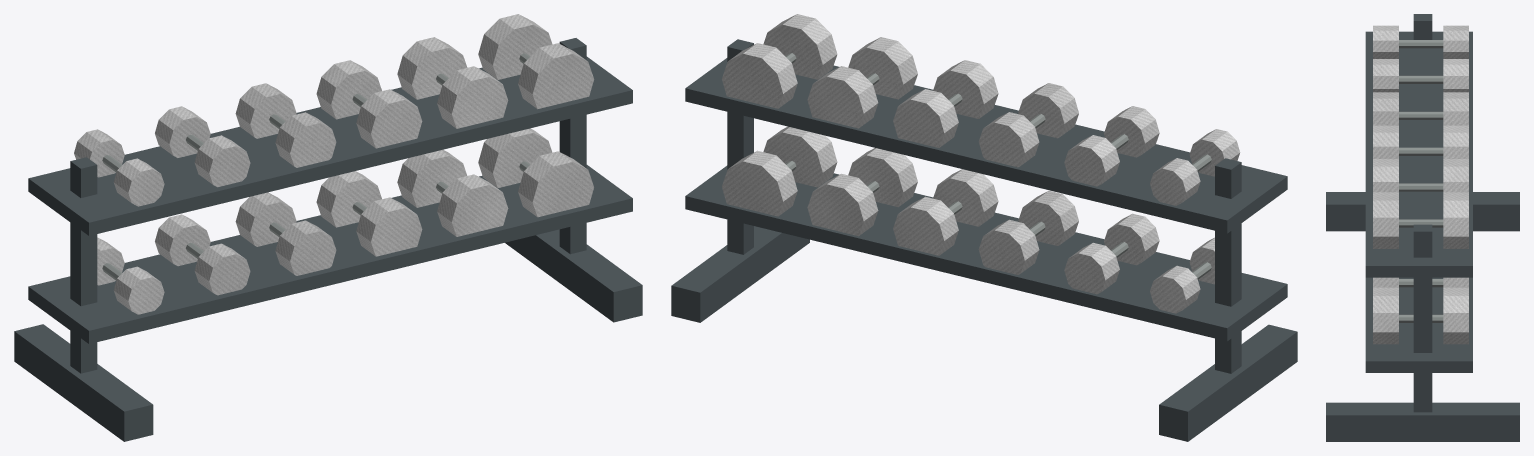
The model's file is weight_rack.glb.
3 views of the same model, side by side, from view 1: azimuth 30°, elevation 25°; view 2: azimuth 150°, elevation 25°; view 3: azimuth 270°, elevation 25° (orthographic). The views are drawn at different scales.
Parts seen in each view (by area): view 1: weight_rack_Steel, weight_rack_Rubber, weight_rack_SteelEdge; view 2: weight_rack_Steel, weight_rack_Rubber, weight_rack_SteelEdge; view 3: weight_rack_Steel, weight_rack_Rubber, weight_rack_SteelEdge.
Part boxes in pixels (left/top/right/bottom): weight_rack_Steel: left=14, top=38, right=642, bottom=441; weight_rack_Rubber: left=74, top=14, right=594, bottom=314; weight_rack_SteelEdge: left=102, top=53, right=530, bottom=280; weight_rack_Steel: left=671, top=39, right=1297, bottom=441; weight_rack_Rubber: left=722, top=14, right=1240, bottom=313; weight_rack_SteelEdge: left=785, top=53, right=1211, bottom=279; weight_rack_Steel: left=1326, top=14, right=1519, bottom=441; weight_rack_Rubber: left=1373, top=25, right=1468, bottom=344; weight_rack_SteelEdge: left=1399, top=40, right=1443, bottom=322.
Size of the model in its own units: 3 by 1.33 by 1.05.
3 materials, 1 textured.
